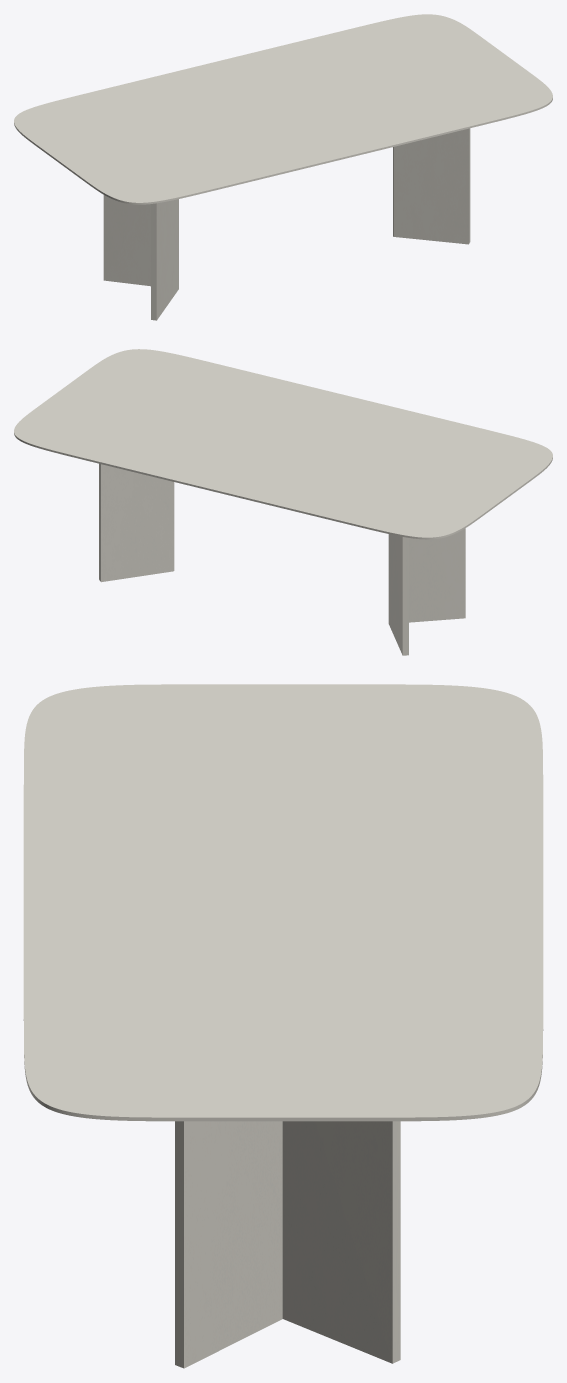
Rendered from pale_softrecta_facet_valleyv.glb.
The picture shows the model from 3 angles, top to bottom: view 1: azimuth 30°, elevation 25°; view 2: azimuth 150°, elevation 25°; view 3: azimuth 270°, elevation 25°; orthographic projection. The views are drawn at different scales.
Parts seen in each view (by area): view 1: facet_softrecta, valleyv; view 2: facet_softrecta, valleyv; view 3: facet_softrecta, valleyv.
Part boxes in pixels (x1,y1,x2,y2): facet_softrecta: (14, 14, 552, 204); valleyv: (103, 128, 470, 320); facet_softrecta: (14, 349, 552, 539); valleyv: (99, 463, 465, 655); facet_softrecta: (23, 684, 543, 1121); valleyv: (175, 1121, 400, 1368).
Bounding box in the file's own units: 7.5 × 2.5 × 3.8.
Materials: 1 (1 with a texture image).
